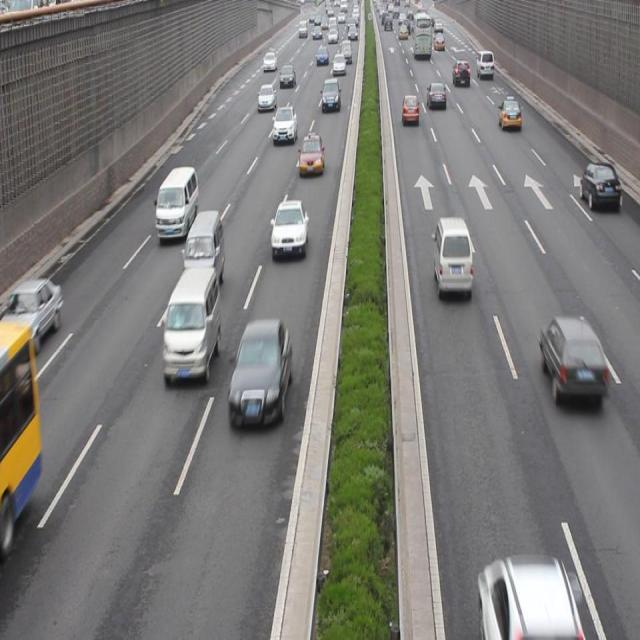car: (476, 556, 578, 634), (228, 319, 292, 432), (537, 314, 606, 407), (1, 277, 62, 359), (578, 157, 618, 213), (271, 199, 306, 258), (298, 133, 324, 176), (272, 105, 296, 143)
truck: (162, 266, 220, 382), (182, 212, 224, 296), (155, 166, 198, 241), (434, 214, 471, 300)
